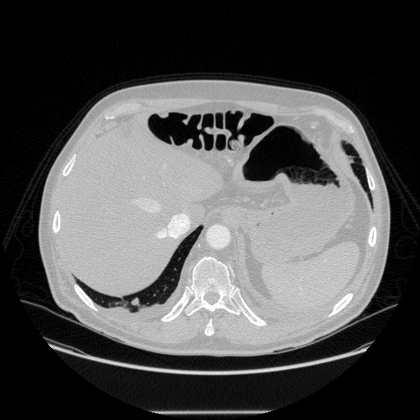nodule: (131, 298, 139, 306)
